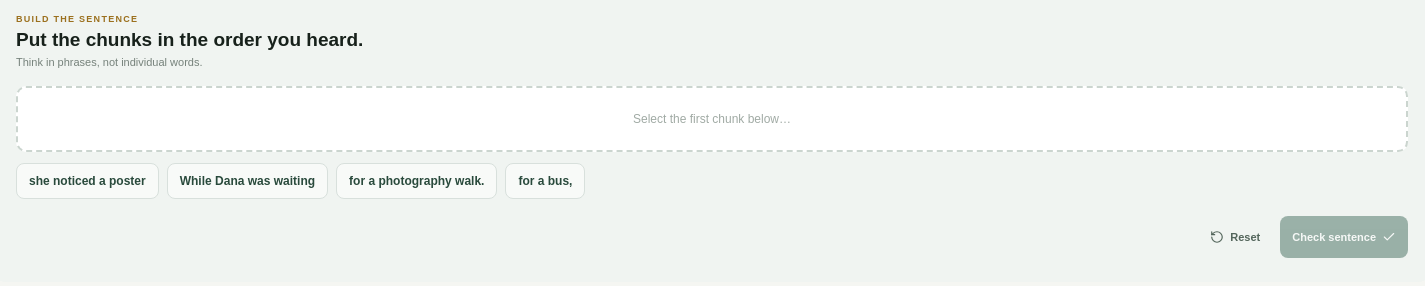
Test case: immersive activities › lets the learner reconstruct the model sentence
This screenshot has width=1425, height=286.
Click the button "While Dana was waiting" at (247, 181), box [167, 163, 328, 199]
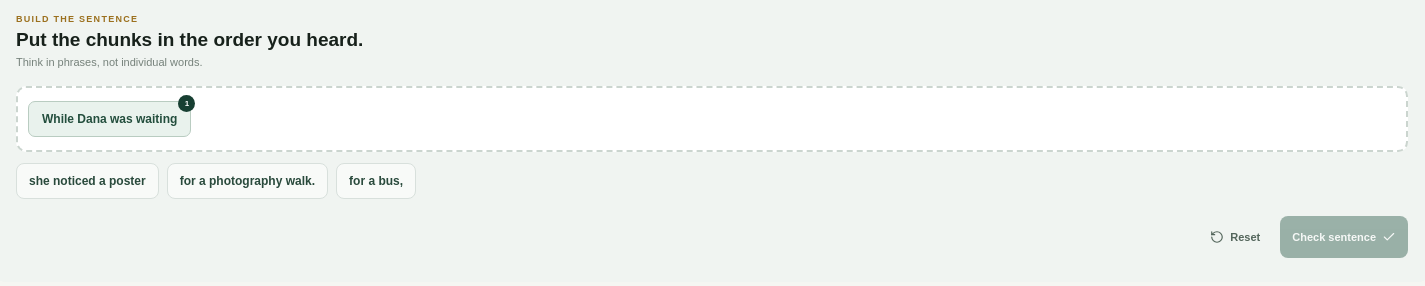
Click the button "for a bus," at (376, 181), box [336, 163, 416, 199]
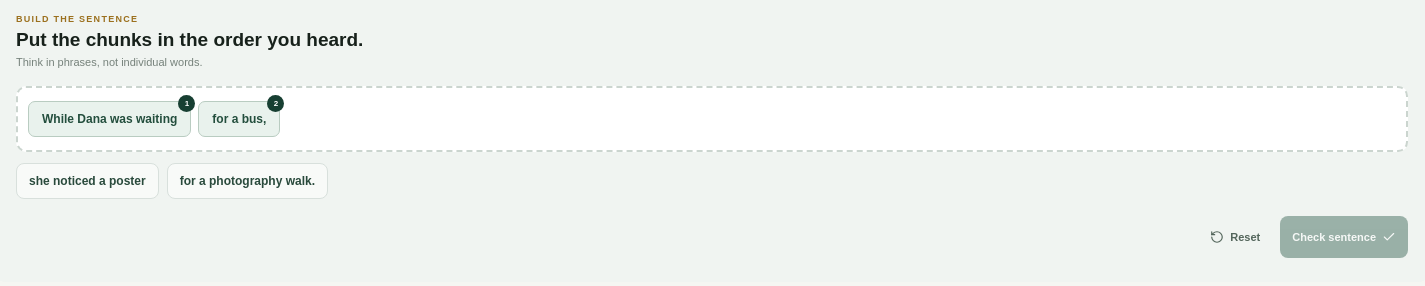
Click the button "she noticed a poster" at (87, 181), box [16, 163, 159, 199]
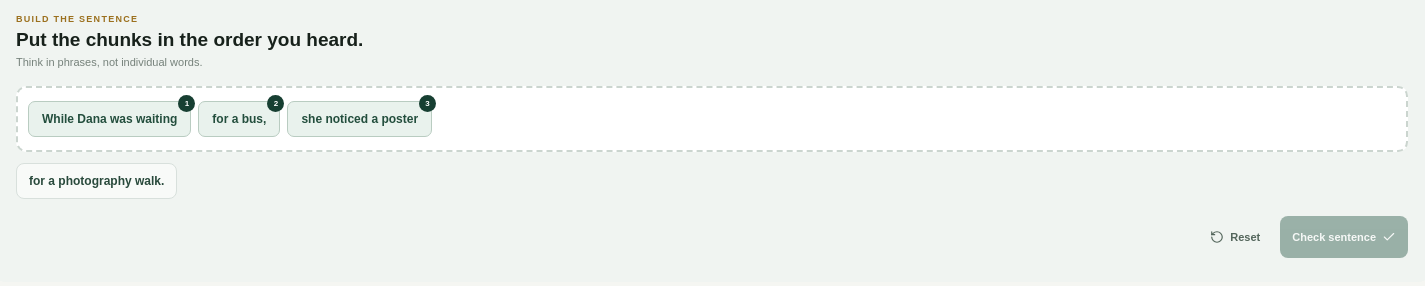
Click the button "for a photography walk." at (97, 181), box [16, 163, 177, 199]
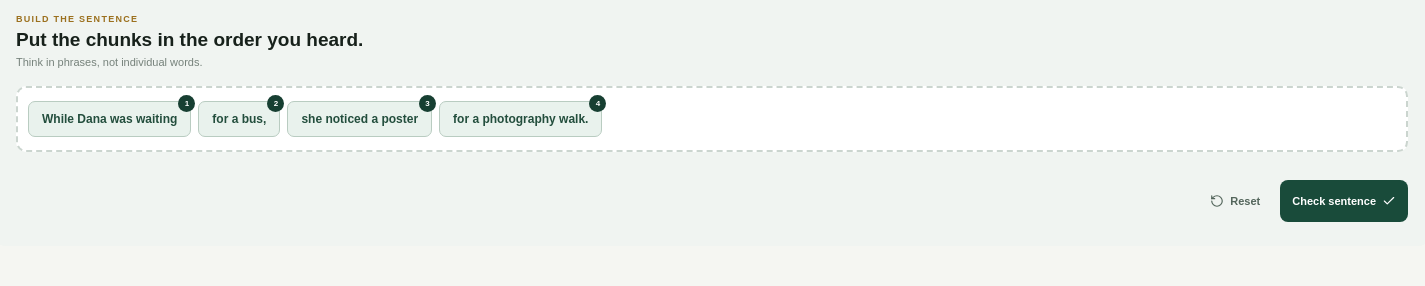
Click the button "Check sentence" at (1344, 201), box [1280, 180, 1408, 222]
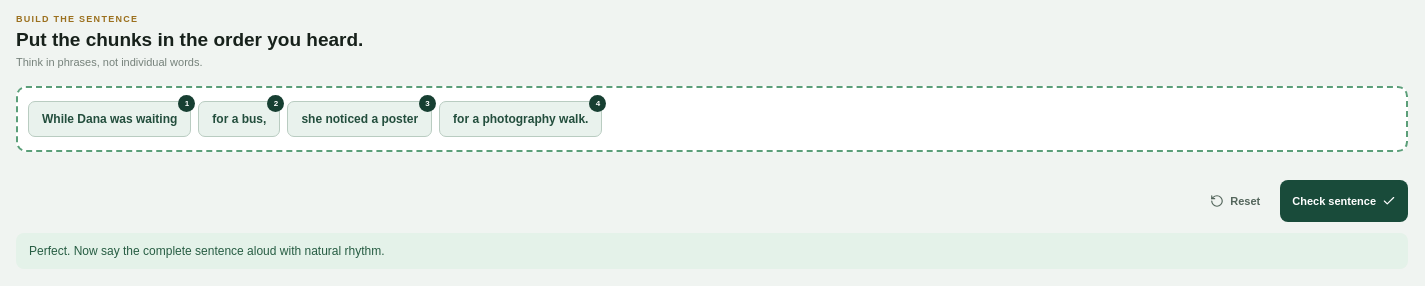
Expected: the text "Perfect. Now say the complete sentence" is shown, [29, 244, 384, 258]
